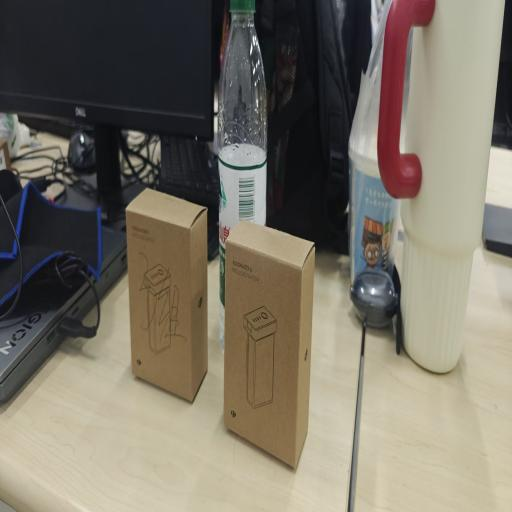bottle: (217, 0, 268, 352)
box: (223, 221, 315, 468), (126, 188, 208, 401)
